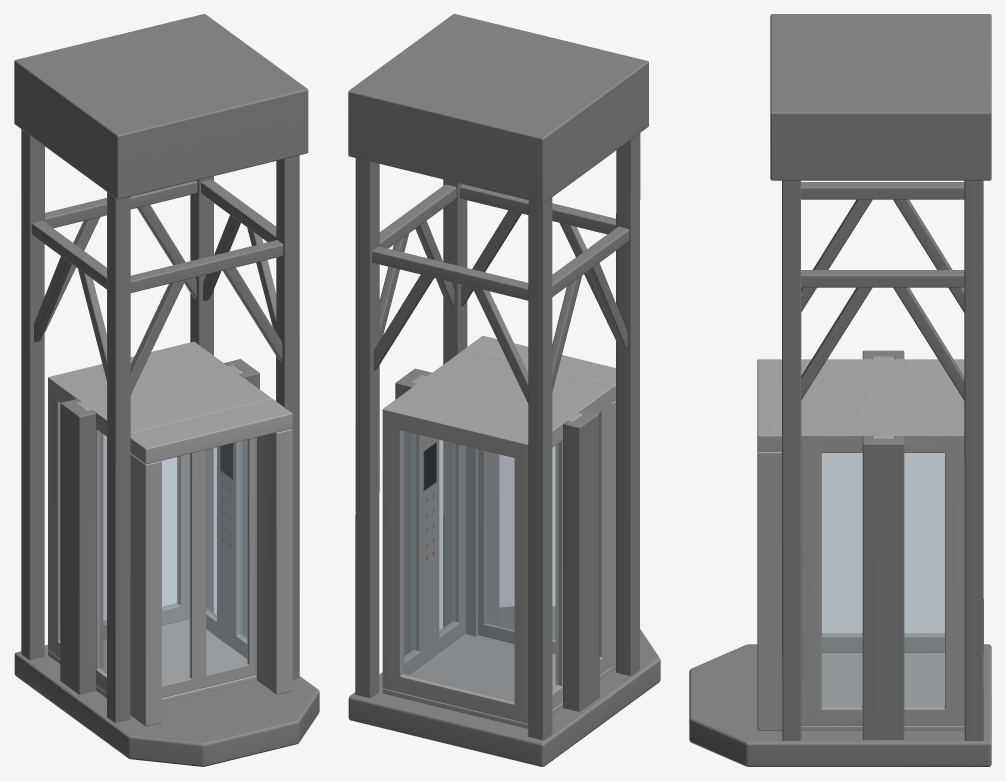
File: arunangshubanerjee-elevator-2069.glb
The picture shows the model from 3 angles, left to right: view 1: azimuth 30°, elevation 25°; view 2: azimuth 150°, elevation 25°; view 3: azimuth 270°, elevation 25°; orthographic projection. The views are drawn at different scales.
Parts seen in each view (by area): view 1: icon_elevator_base_stylized_01_lod0, icon_elevator_base_stylized_02_lod0; view 2: icon_elevator_base_stylized_01_lod0, icon_elevator_base_stylized_02_lod0; view 3: icon_elevator_base_stylized_01_lod0, icon_elevator_base_stylized_02_lod0.
Boxes of the visible parts, <box> form: icon_elevator_base_stylized_01_lod0: <box>14,14,319,766</box>; icon_elevator_base_stylized_02_lod0: <box>100,432,247,684</box>; icon_elevator_base_stylized_01_lod0: <box>348,14,660,766</box>; icon_elevator_base_stylized_02_lod0: <box>402,431,558,701</box>; icon_elevator_base_stylized_01_lod0: <box>689,14,991,766</box>; icon_elevator_base_stylized_02_lod0: <box>822,453,944,706</box>.
Size of the model in its own units: 0.0595 by 0.1828 by 0.0765.
2 materials, 2 textured.
